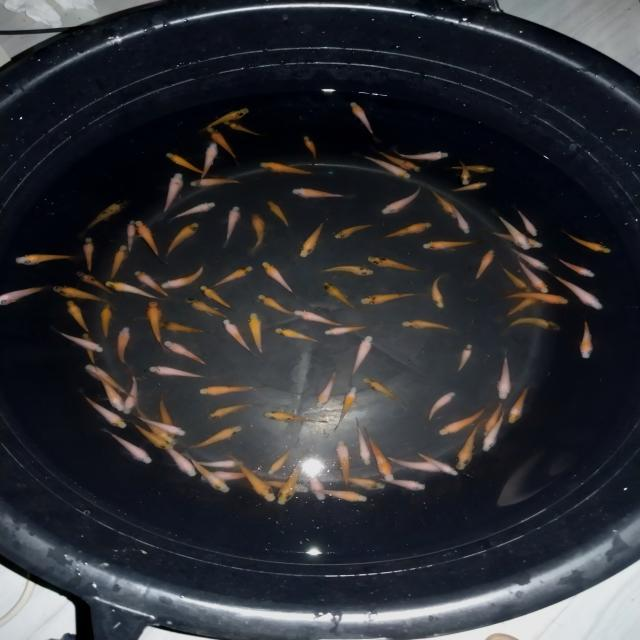nila: (74, 196, 139, 237), (546, 273, 608, 313), (232, 458, 278, 507), (344, 334, 386, 384), (100, 428, 158, 464), (350, 150, 413, 182), (491, 206, 532, 252), (368, 144, 425, 176), (183, 454, 228, 494), (158, 150, 218, 180), (77, 391, 128, 426), (80, 363, 134, 396), (360, 375, 410, 410), (556, 227, 614, 256), (201, 124, 243, 164), (250, 158, 326, 180), (161, 340, 216, 370), (188, 424, 246, 452), (162, 218, 200, 260), (433, 406, 486, 436), (296, 216, 332, 260), (50, 283, 118, 306), (133, 408, 175, 445), (194, 104, 249, 132), (218, 316, 256, 356), (259, 260, 301, 296), (368, 432, 397, 484), (104, 280, 166, 304), (282, 304, 346, 327), (151, 265, 212, 289), (0, 282, 50, 311), (362, 253, 425, 276), (453, 420, 480, 472), (511, 258, 550, 294), (412, 449, 462, 477), (96, 370, 129, 412), (132, 217, 162, 263), (318, 278, 358, 312), (206, 264, 254, 292), (376, 218, 432, 242), (504, 288, 571, 308), (166, 199, 218, 224), (348, 418, 375, 466), (132, 416, 188, 439), (286, 186, 366, 202), (380, 184, 420, 216), (416, 232, 480, 252), (274, 327, 332, 349), (260, 409, 330, 427), (348, 99, 378, 141), (499, 294, 544, 322), (498, 315, 564, 334), (182, 292, 230, 318), (52, 327, 106, 350), (274, 460, 302, 504), (332, 386, 360, 430), (70, 269, 114, 297), (198, 284, 242, 312), (126, 420, 167, 450), (424, 388, 458, 424), (401, 314, 462, 334), (486, 230, 546, 250), (506, 384, 534, 426), (156, 393, 179, 444), (313, 365, 339, 410), (202, 400, 260, 420), (355, 288, 416, 307), (11, 249, 72, 268), (378, 454, 450, 470), (162, 444, 194, 480), (242, 310, 267, 356), (480, 410, 506, 454), (508, 246, 552, 272), (188, 384, 264, 399), (143, 363, 209, 380), (254, 290, 294, 318), (468, 247, 496, 287), (134, 270, 172, 299), (371, 473, 428, 492), (61, 300, 91, 336), (494, 262, 530, 292), (509, 203, 538, 240), (160, 171, 184, 215), (428, 189, 460, 222), (552, 257, 602, 278), (148, 298, 167, 352), (186, 174, 250, 190), (219, 118, 269, 138), (220, 204, 242, 248), (246, 208, 266, 256), (306, 488, 374, 502), (331, 220, 374, 242), (198, 467, 256, 483), (107, 241, 128, 285), (388, 148, 454, 162), (338, 473, 388, 491), (495, 350, 513, 400), (264, 198, 292, 230), (121, 369, 140, 416), (297, 132, 320, 170), (197, 142, 219, 181), (315, 323, 372, 338), (97, 300, 114, 350), (154, 320, 214, 334), (428, 272, 450, 310), (334, 440, 352, 486), (482, 402, 506, 436), (577, 314, 594, 362), (444, 196, 464, 236), (116, 326, 134, 370), (312, 264, 376, 276), (258, 478, 310, 492), (272, 443, 294, 475), (452, 342, 474, 374), (79, 234, 97, 273), (303, 470, 324, 502), (186, 457, 246, 468), (442, 179, 485, 194), (454, 156, 472, 190), (447, 163, 497, 175), (122, 218, 136, 256), (81, 332, 97, 364)
